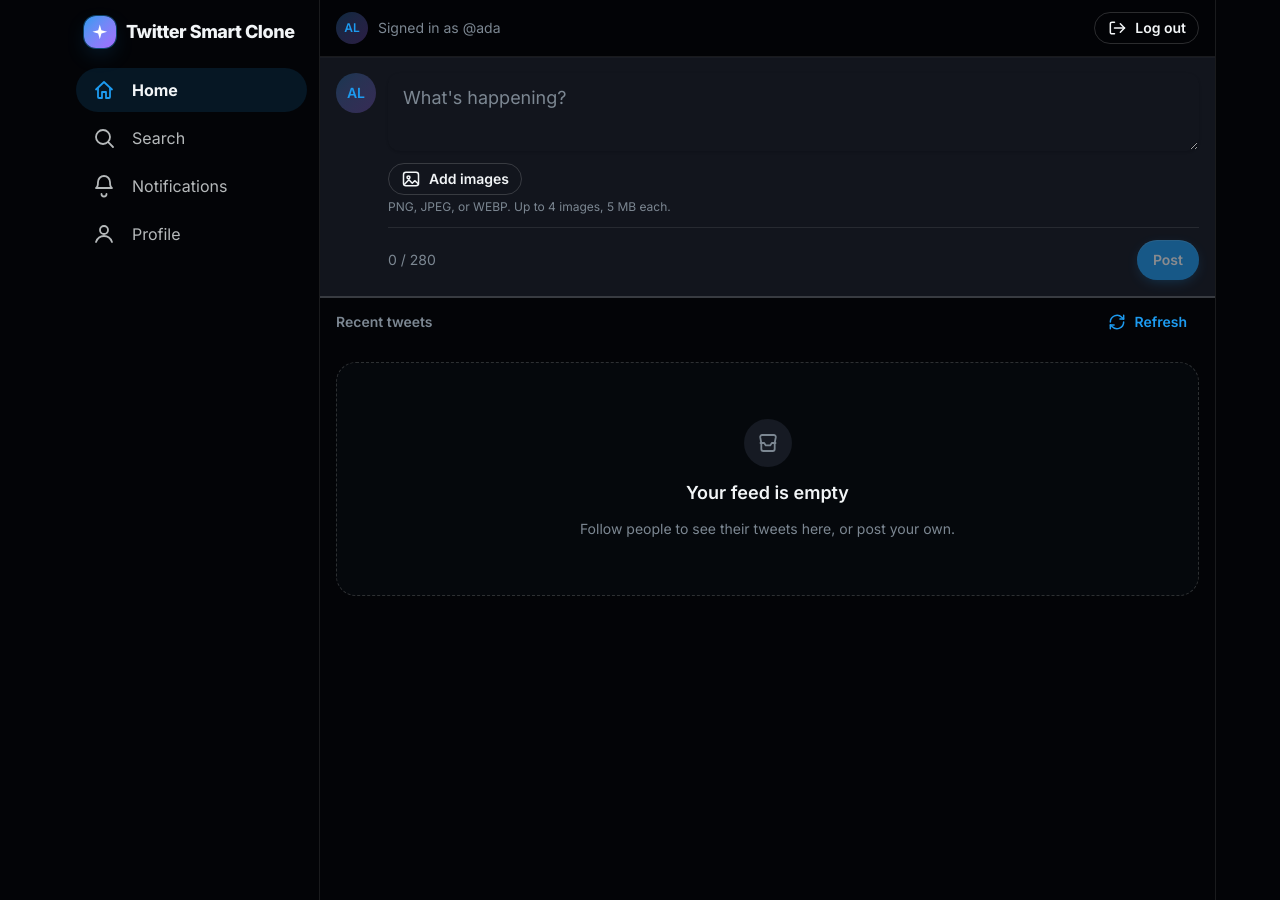
Test: Profile (own) › renders the signed-in user profile with an edit affordance, a timeline, and never shows the email
Step 1. Click the text "Signed in as @ada" → x=439, y=28, box [378,18,500,38]
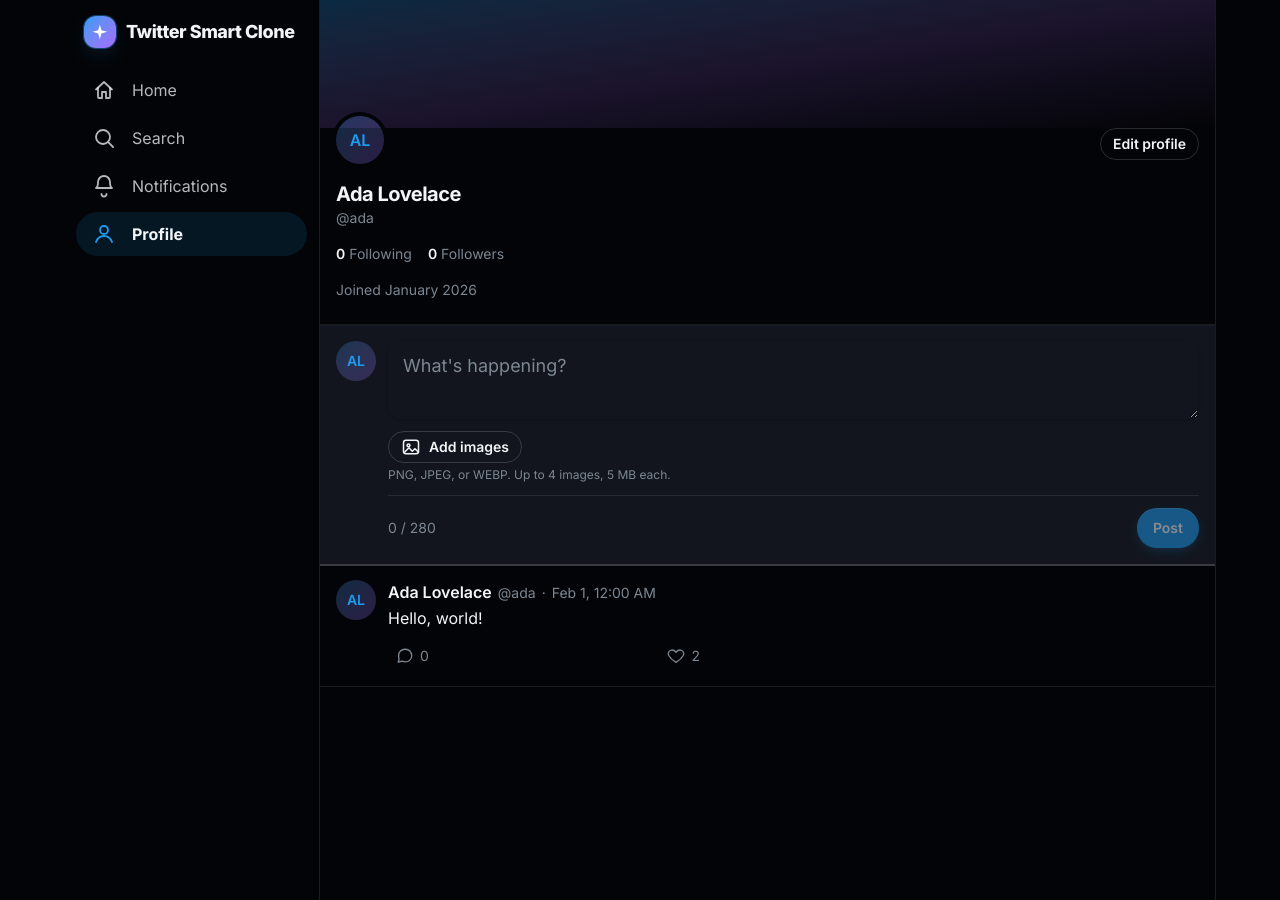
Now the 1st text "@ada" is shown, box [336,209,374,226]
Now the button "Edit profile" is shown, box [1100,128,1199,160]
Now the text "Hello, world!" is shown, box [388,608,483,628]
